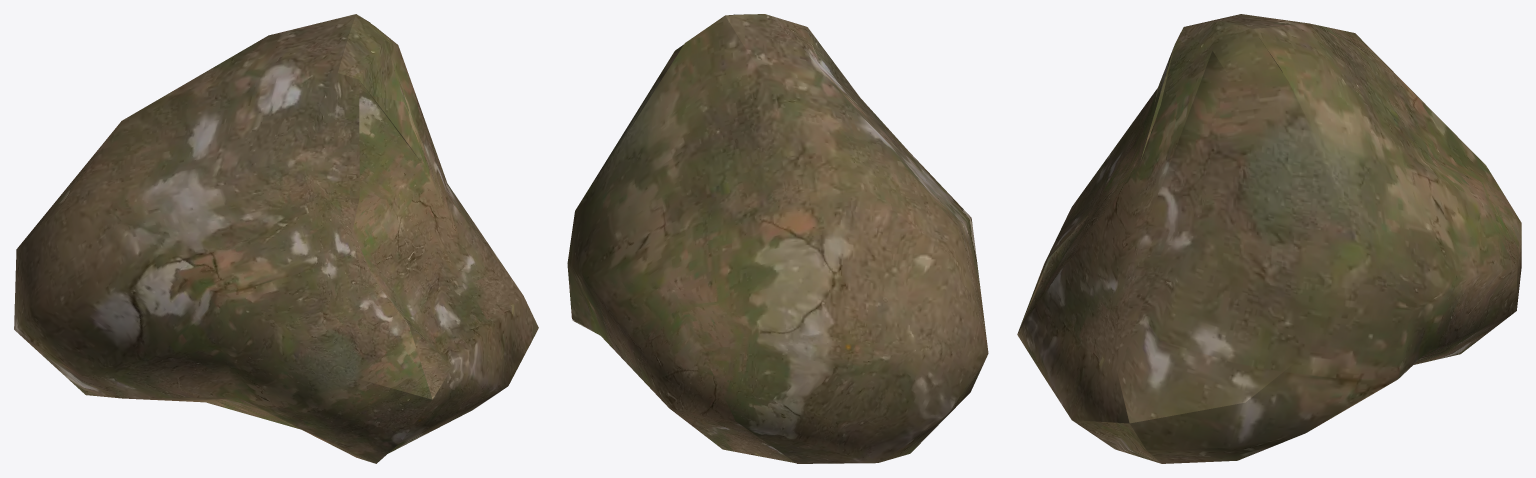
File: rock_002.glb
The picture shows the model from 3 angles, left to right: view 1: azimuth 30°, elevation 25°; view 2: azimuth 150°, elevation 25°; view 3: azimuth 270°, elevation 25°; orthographic projection. The views are drawn at different scales.
Parts seen in each view (by area): view 1: rock.002; view 2: rock.002; view 3: rock.002.
Part boxes in pixels (x1,y1,x2,y2): rock.002: (14, 14, 538, 463); rock.002: (567, 14, 988, 463); rock.002: (1017, 14, 1521, 463).
Bounding box in the file's own units: 0.8753 × 0.7568 × 0.8274.
Materials: 1 (1 with a texture image).
